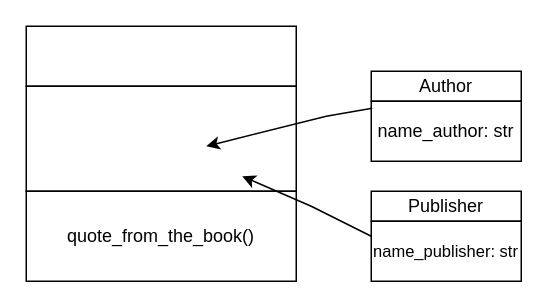
This 548x308 diagram has some shape labels left out. The box of each missing label's shape, as (x1, y1, x2, y2) in pixels:
Book: (25, 25, 296, 86)
title: str year: int autor: Author publisher: Publisher: (25, 85, 296, 191)
